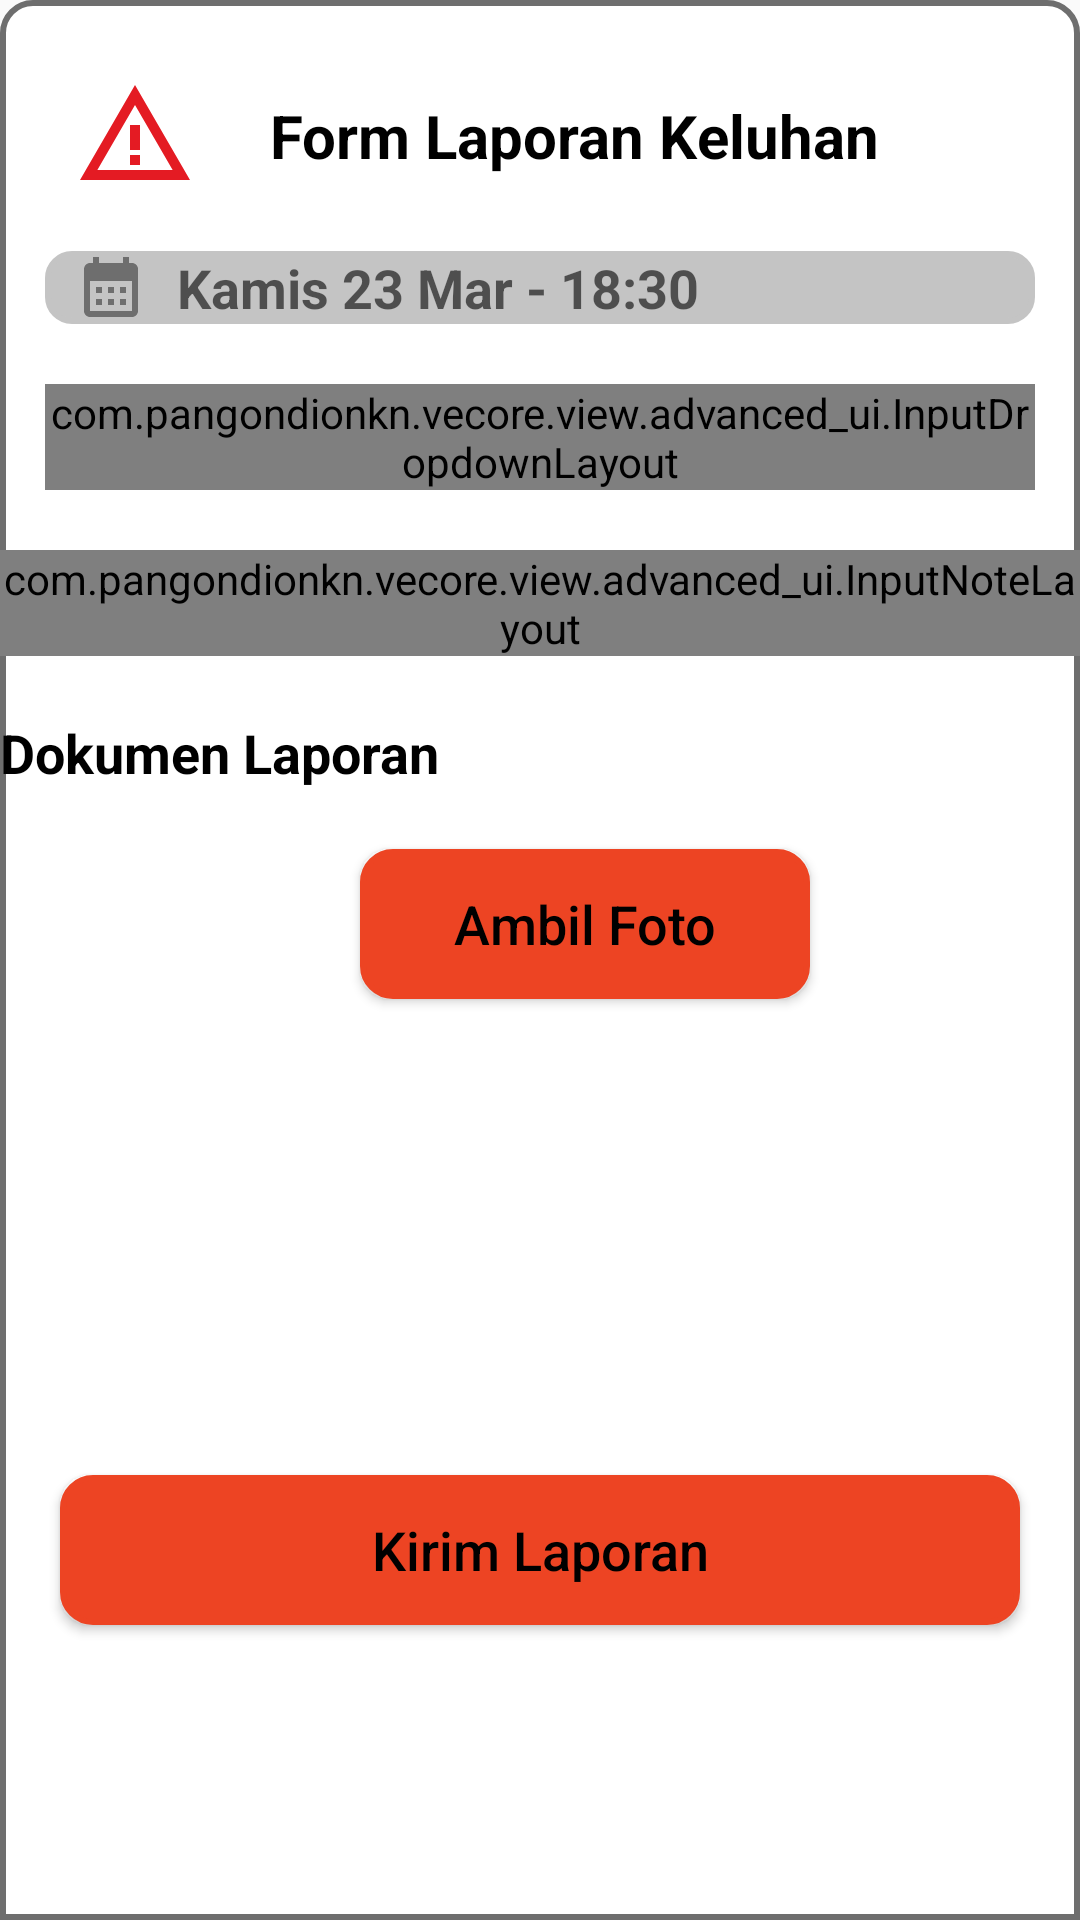

Point at icon controls on the screen. Image size 1080x1920, points as (x=x, y=y).
warning: (x=135, y=132)
